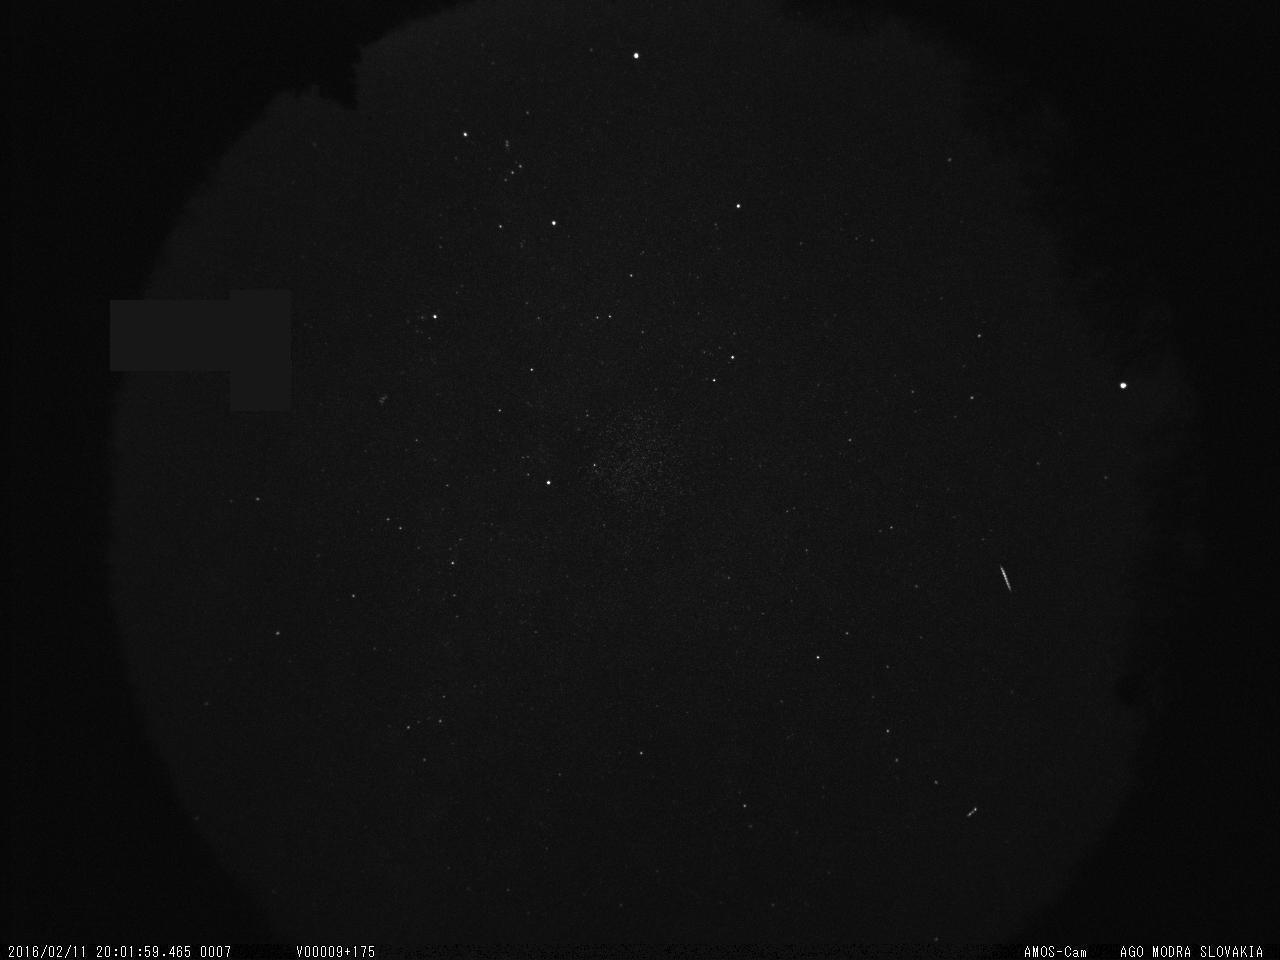Meteor: (996, 554, 1022, 603)
